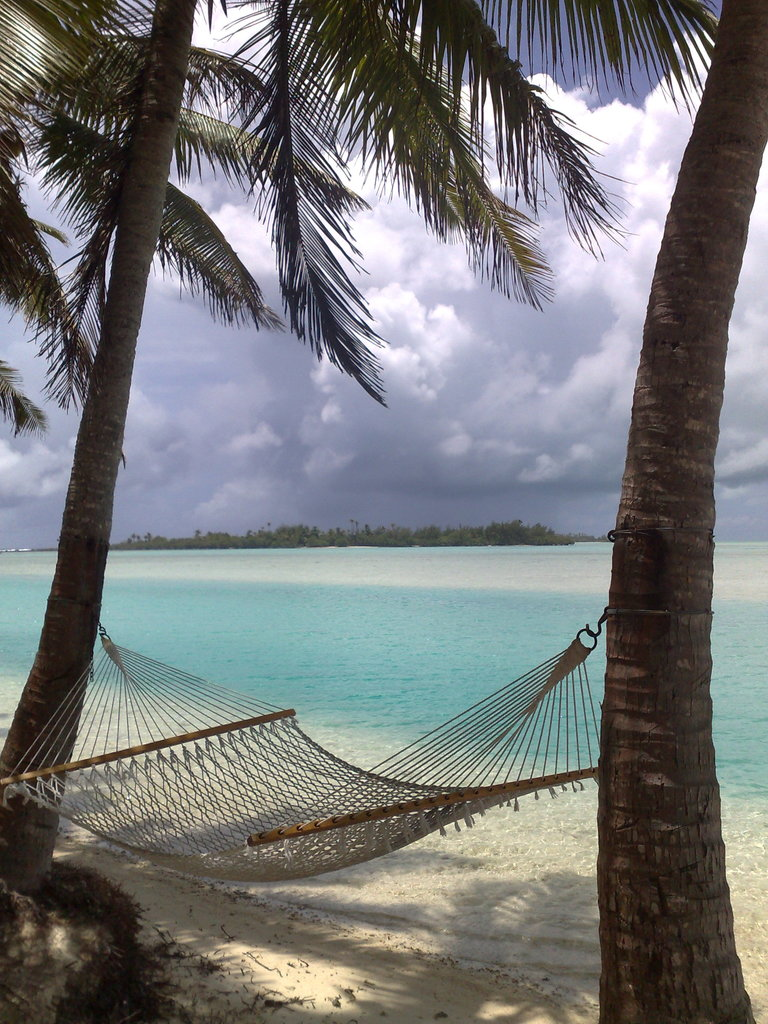Tree: (106, 521, 615, 549)
